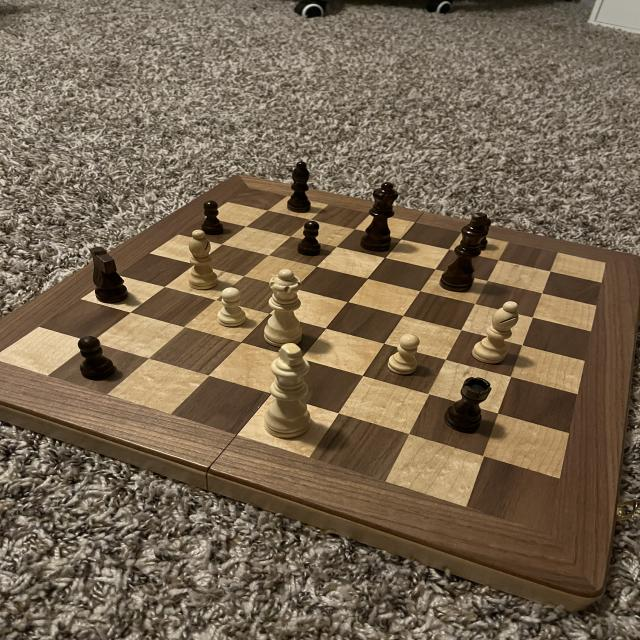bishop: (279, 157, 319, 217)
black-king: (87, 242, 139, 308)
black-knight: (74, 332, 118, 387), (463, 214, 495, 255), (198, 196, 228, 239), (296, 217, 327, 258)
black-pawn: (354, 177, 404, 253)
black-queen: (438, 372, 496, 438)
black-rook: (467, 297, 527, 368), (180, 226, 225, 293)
white-bishop: (256, 342, 316, 439), (435, 206, 492, 292)
white-knight: (381, 331, 425, 382), (214, 284, 248, 332)
white-pawn: (260, 266, 312, 348)
